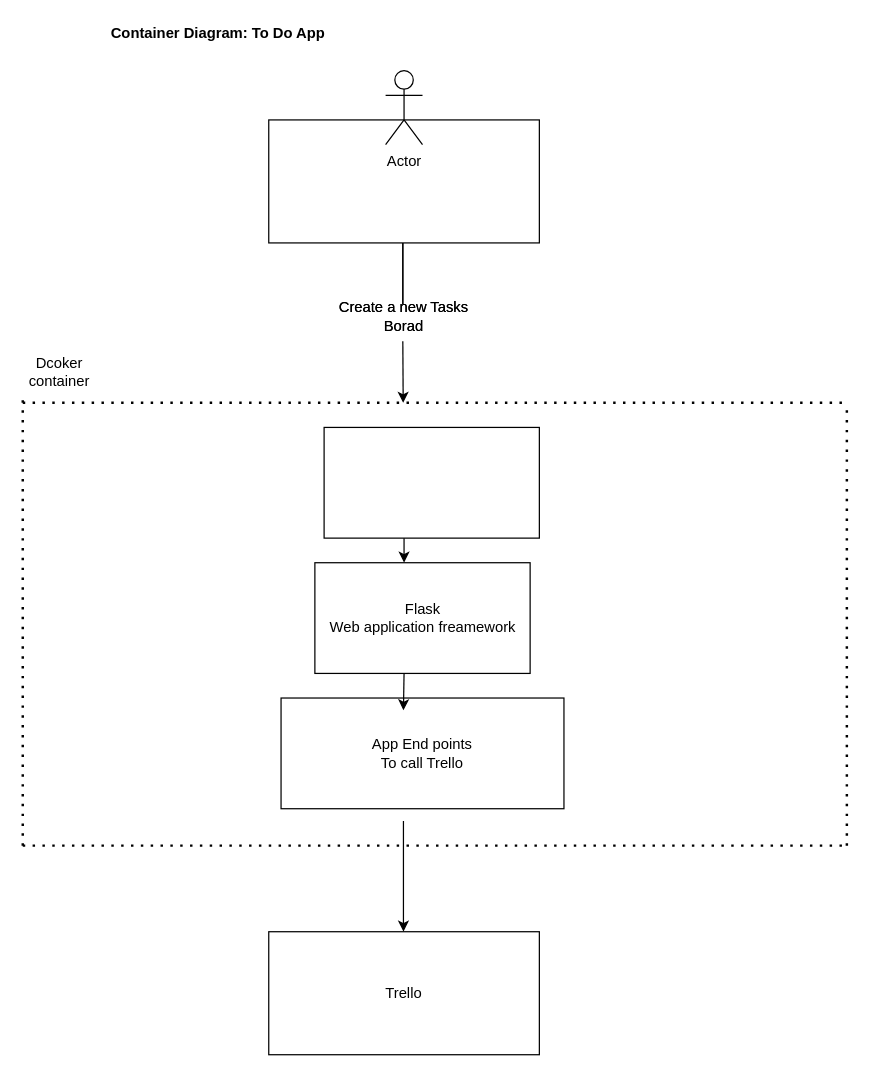
Some shapes in this 870 by 1076 pixel diagram are drawn without their labels. Each missing label, with the centre of its shape:
/Persona/User Uses ToDo app to track their Tasks: [403,181]
Gunicorn Python WSGI http server: [431,482]
